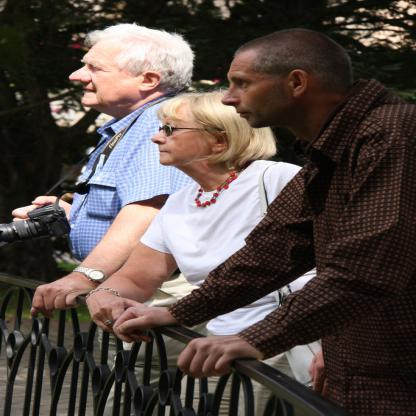Camera: (1, 205, 77, 247)
